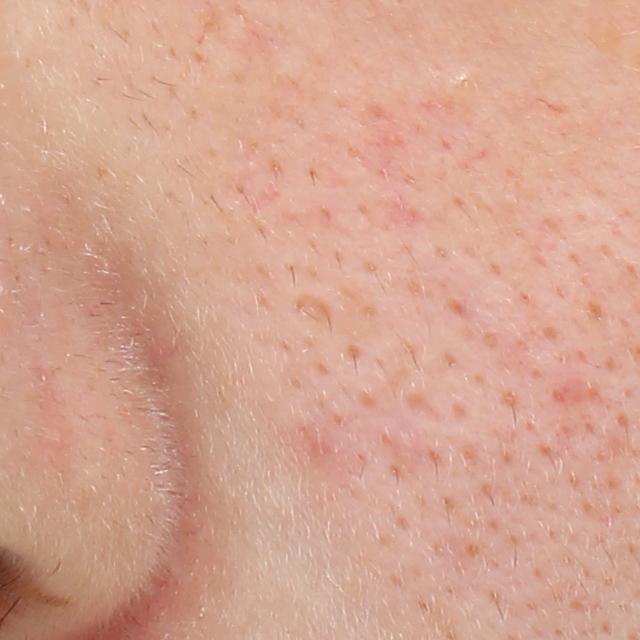atrophic_scar: (394, 389, 447, 431), (554, 374, 609, 408), (294, 297, 333, 323)
comedo: (455, 72, 471, 90)
